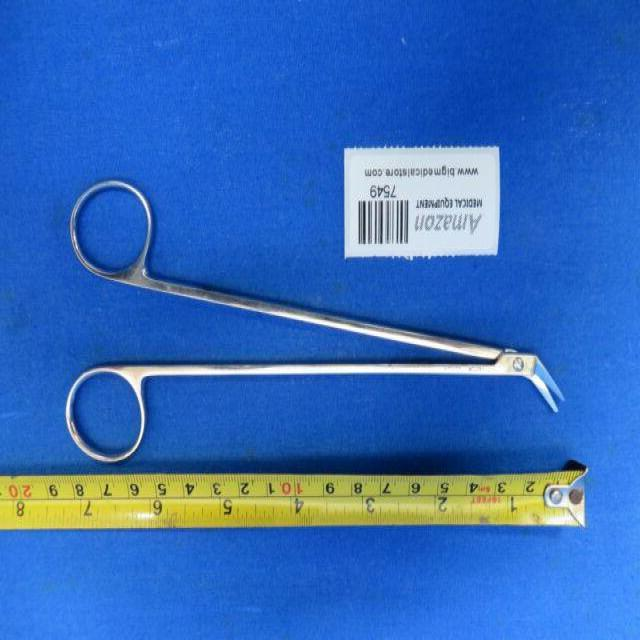Potts: (60, 172, 567, 472)
